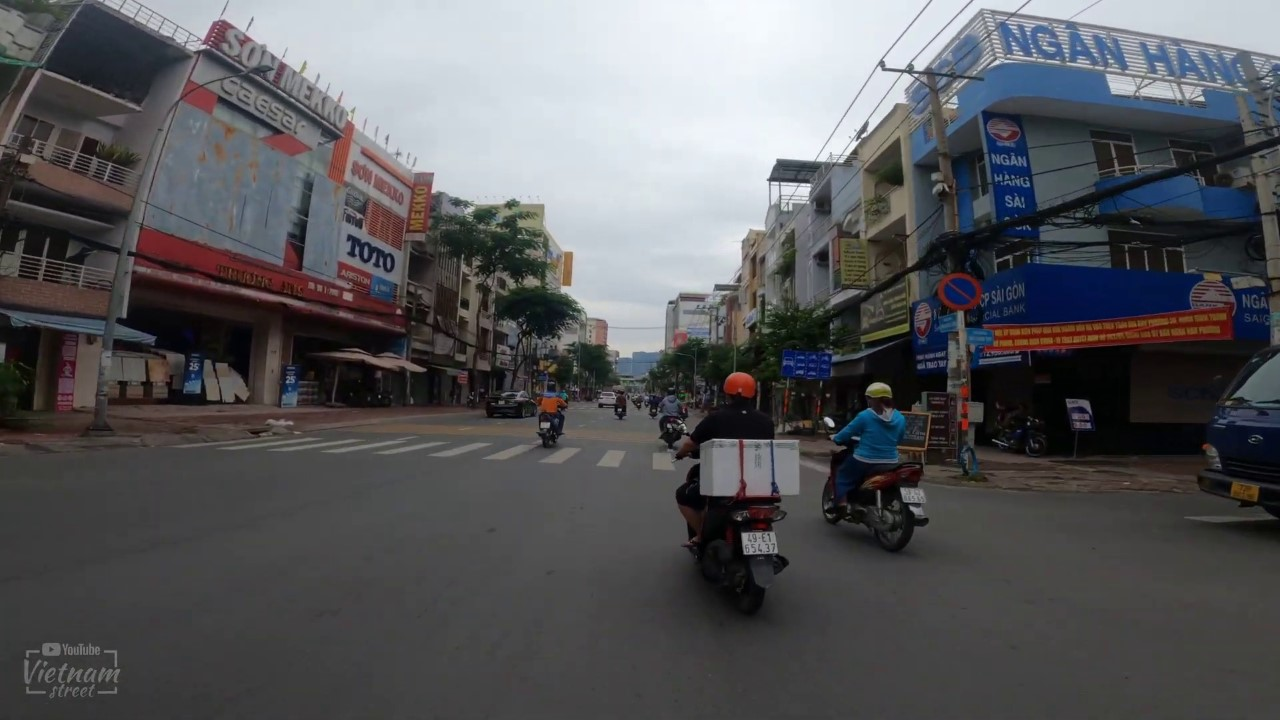cam_do_xe: (937, 273, 982, 310)
